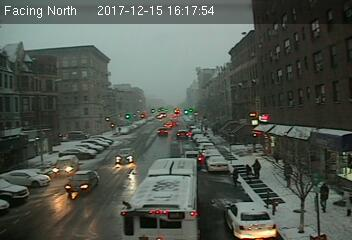bus: (121, 157, 203, 239)
car: (224, 200, 278, 238), (64, 170, 99, 195), (52, 156, 79, 176), (181, 149, 204, 168), (207, 155, 229, 173), (115, 148, 138, 164), (176, 129, 189, 139), (156, 128, 168, 136)
pedestrian: (281, 160, 294, 190), (250, 154, 263, 181), (242, 160, 254, 182), (232, 163, 241, 186)
